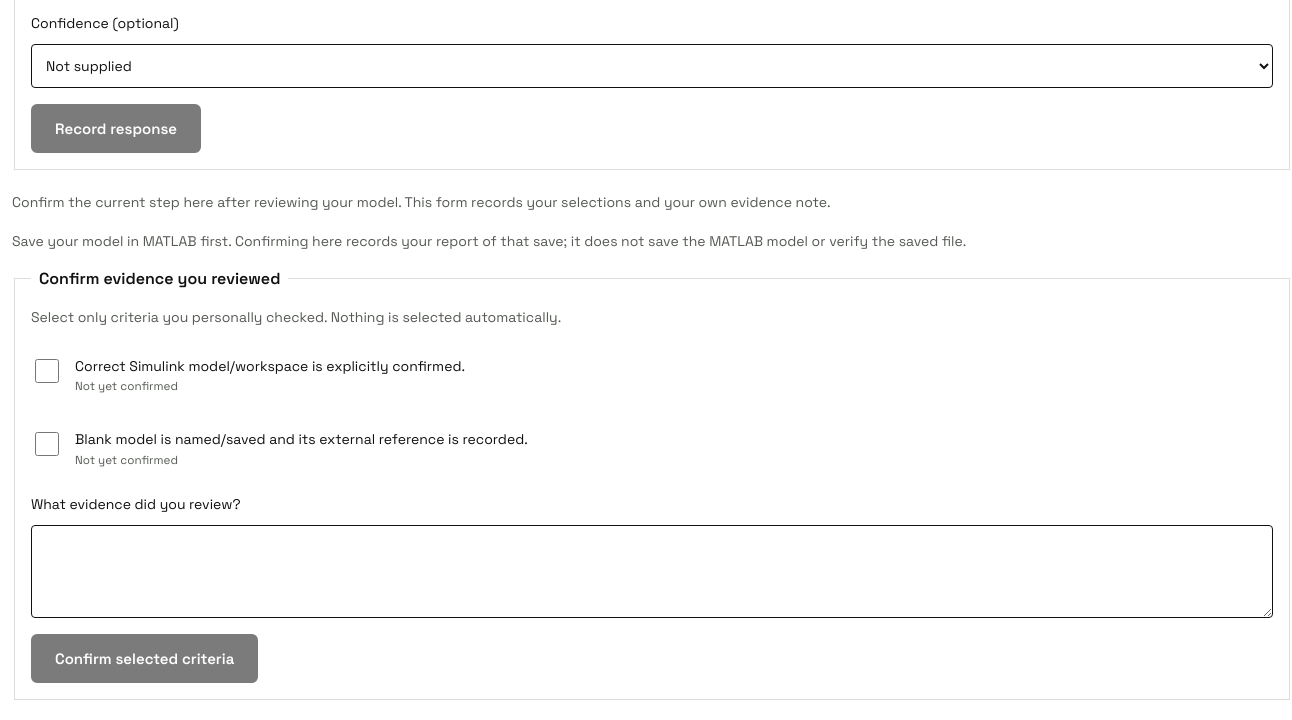
requires deliberate criterion selection and records only the chosen criteria with the student note
This screenshot has width=1292, height=720.
(page scrolled)
Step 1. Click the 1st checkbox → point(47, 370), box [35,358,59,382]
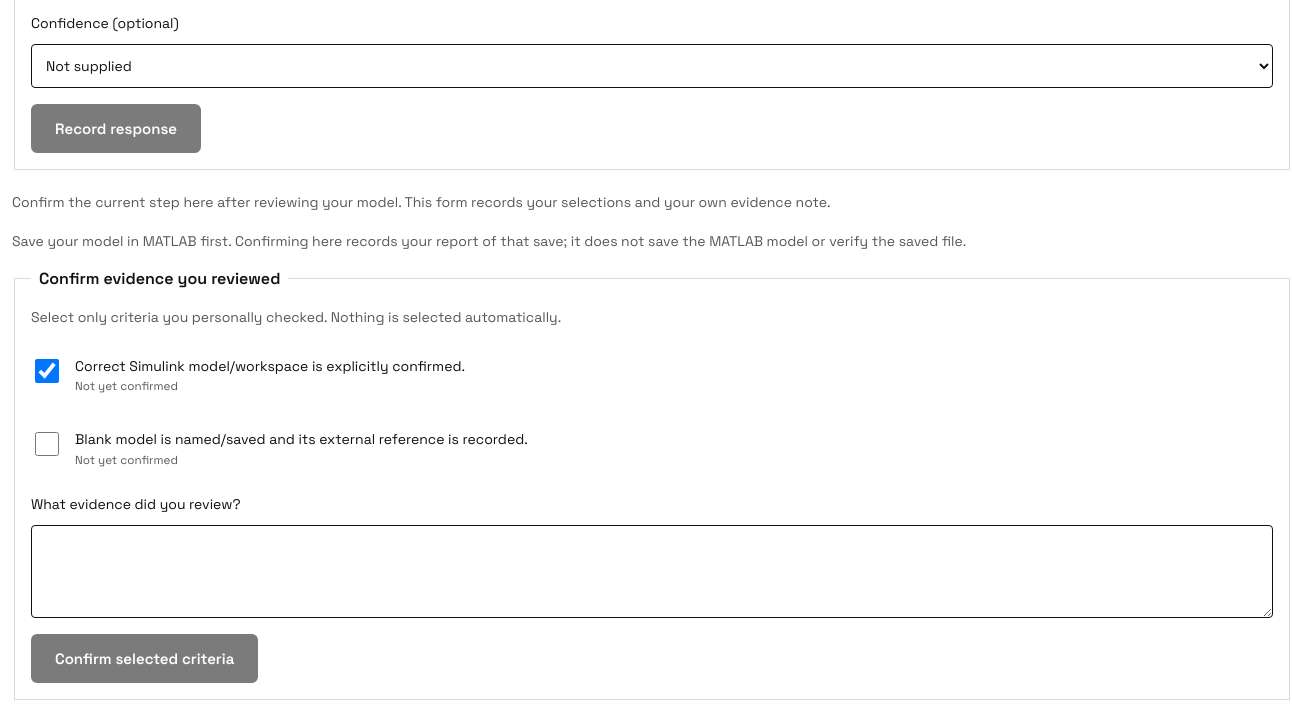
Step 2. Type "I checked my saved model workspace." into the text box labelled "What evidence did you review?" → point(652, 572), box [31,525,1273,618]
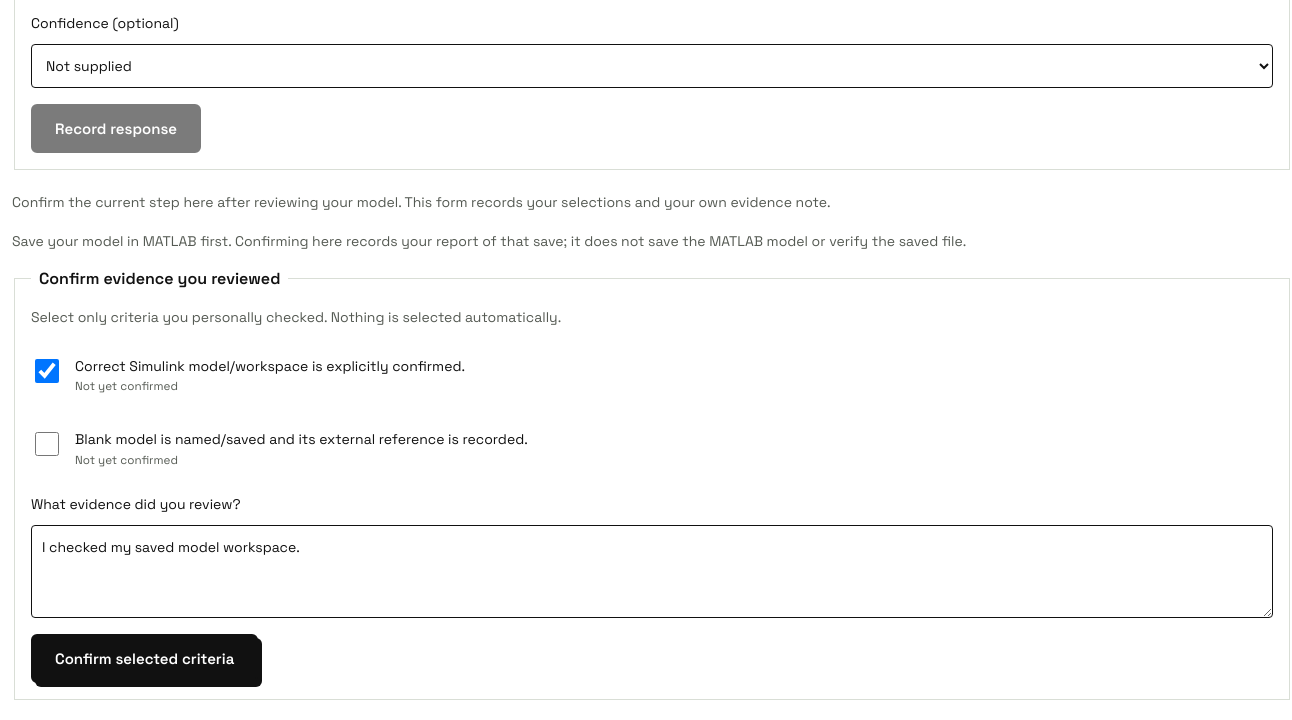
Step 3. Click the button "Confirm selected criteria" → point(145, 659), box [31,634,258,683]
(page scrolled)
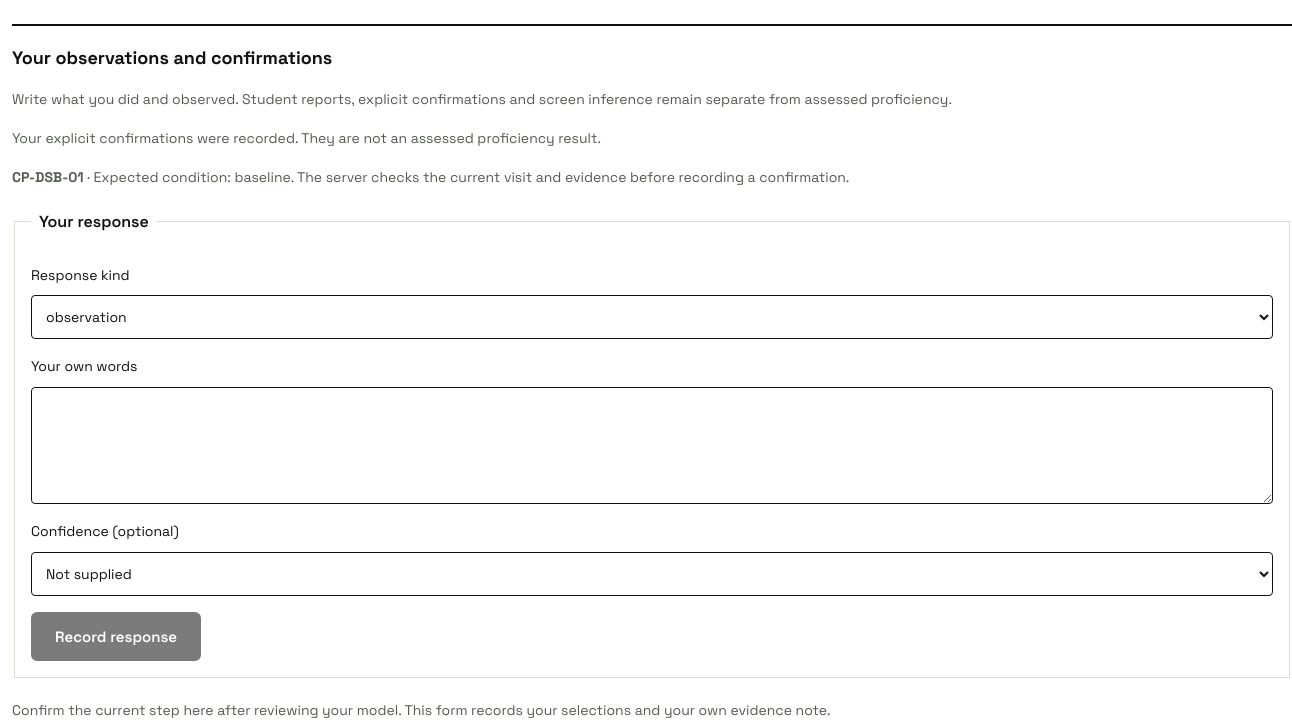
Check: the message shows "not an assessed", box [12,129,601,147]
